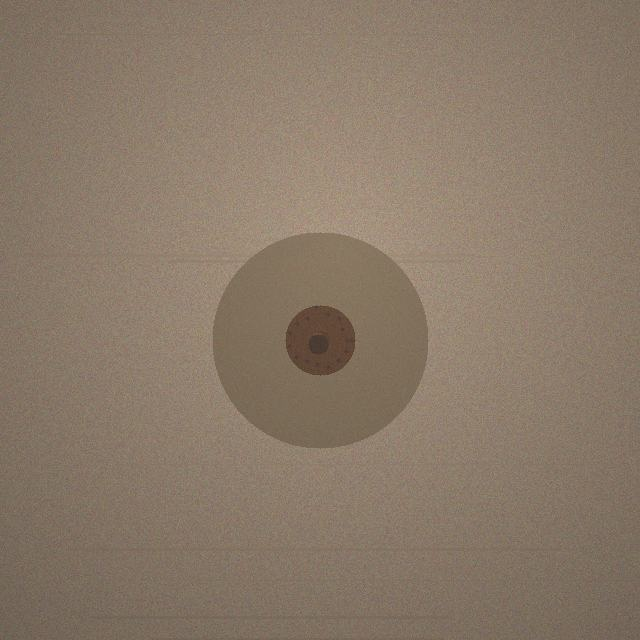cold_weld: (212, 232, 428, 448)
